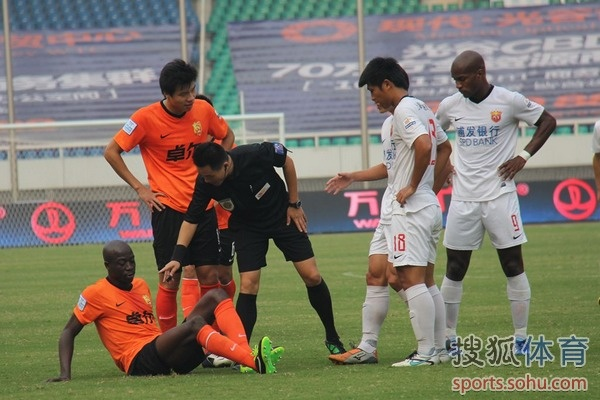falling: (44, 233, 293, 383)
